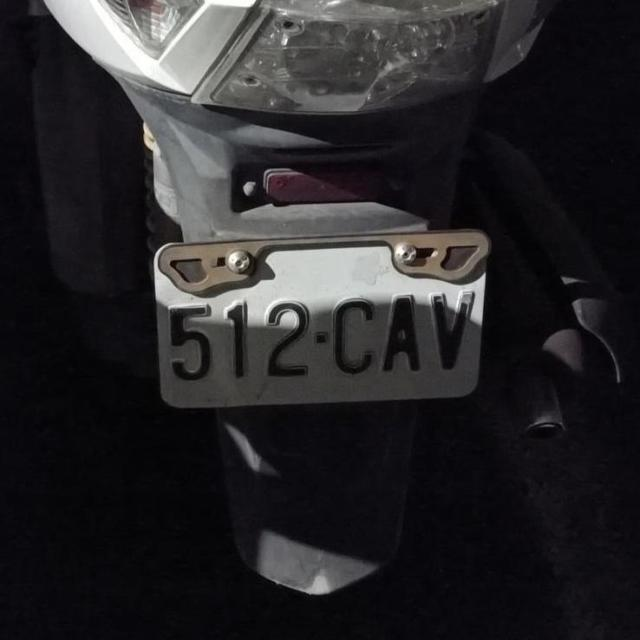W: (136, 225, 501, 420)
